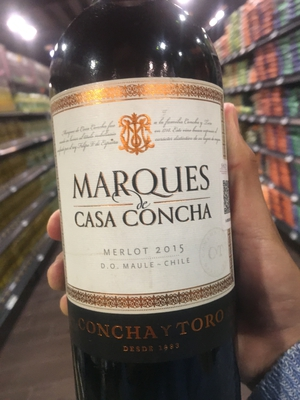marques de casa concha merlot: (46, 22, 250, 400)
